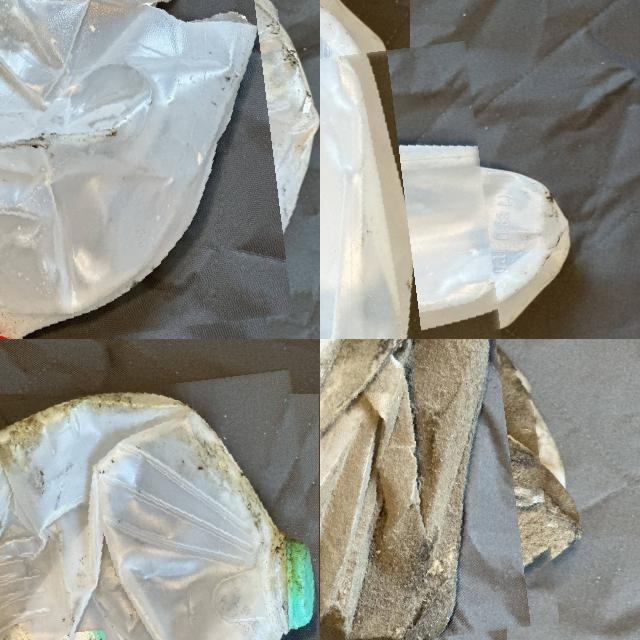milk-jug: (0, 0, 301, 339), (0, 379, 320, 640), (320, 339, 547, 640), (320, 50, 499, 339)
